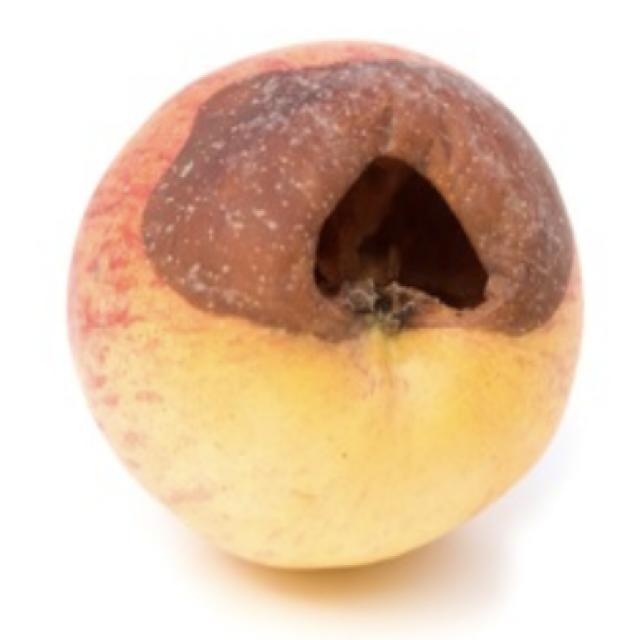Rotten: (82, 50, 588, 583)
